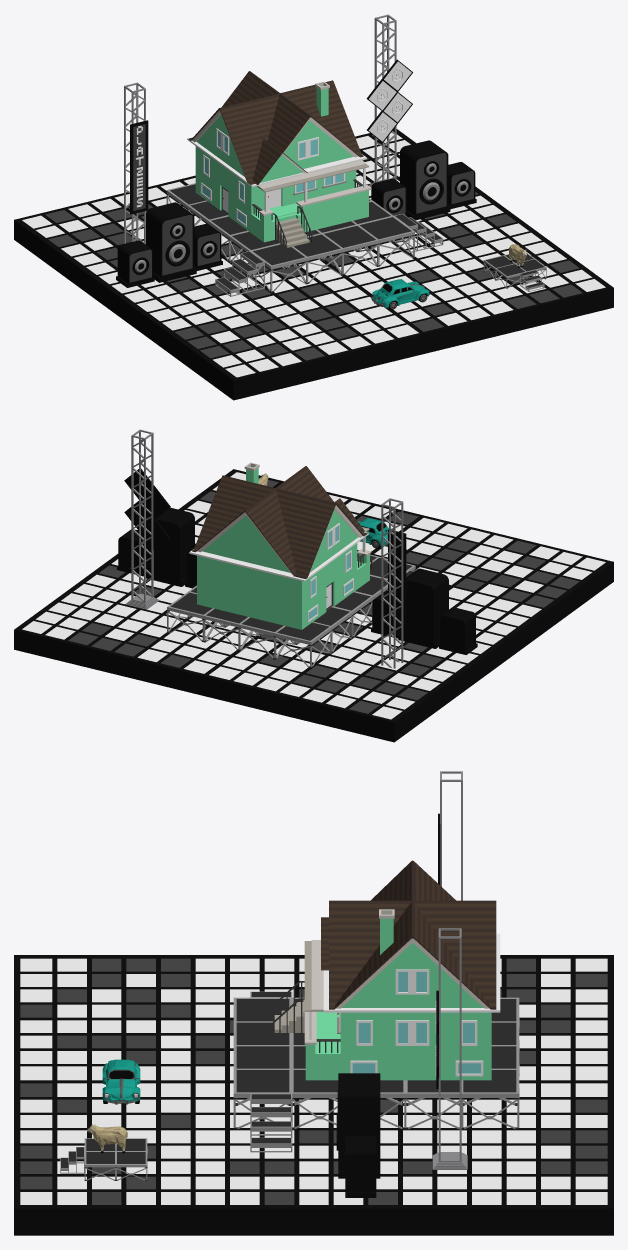
3 views of the same model, one above another, from view 1: azimuth 30°, elevation 25°; view 2: azimuth 150°, elevation 25°; view 3: azimuth 270°, elevation 25° (orthographic). The views are drawn at different scales.
Visible parts, largest first — view 1: Cube.008, Cube.352, VEHICLES_VOLKSWAGEN; view 2: Cube.008, Cube.352, VEHICLES_VOLKSWAGEN; view 3: Cube.008, Cube.352, VEHICLES_VOLKSWAGEN, ANIMAL_OVEJA.
Boxes of the visible parts, x1,y1,x2,y2 form: Cube.008: (14, 14, 613, 400); Cube.352: (187, 71, 371, 248); VEHICLES_VOLKSWAGEN: (371, 279, 429, 309); Cube.008: (14, 429, 613, 742); Cube.352: (189, 462, 372, 629); VEHICLES_VOLKSWAGEN: (358, 518, 391, 548); Cube.008: (14, 771, 613, 1235); Cube.352: (272, 860, 500, 1080); VEHICLES_VOLKSWAGEN: (102, 1059, 140, 1104); ANIMAL_OVEJA: (87, 1124, 127, 1153).
Size of the model in its own units: 4000 by 1988 by 4000.
Materials: 36 (1 with a texture image).
